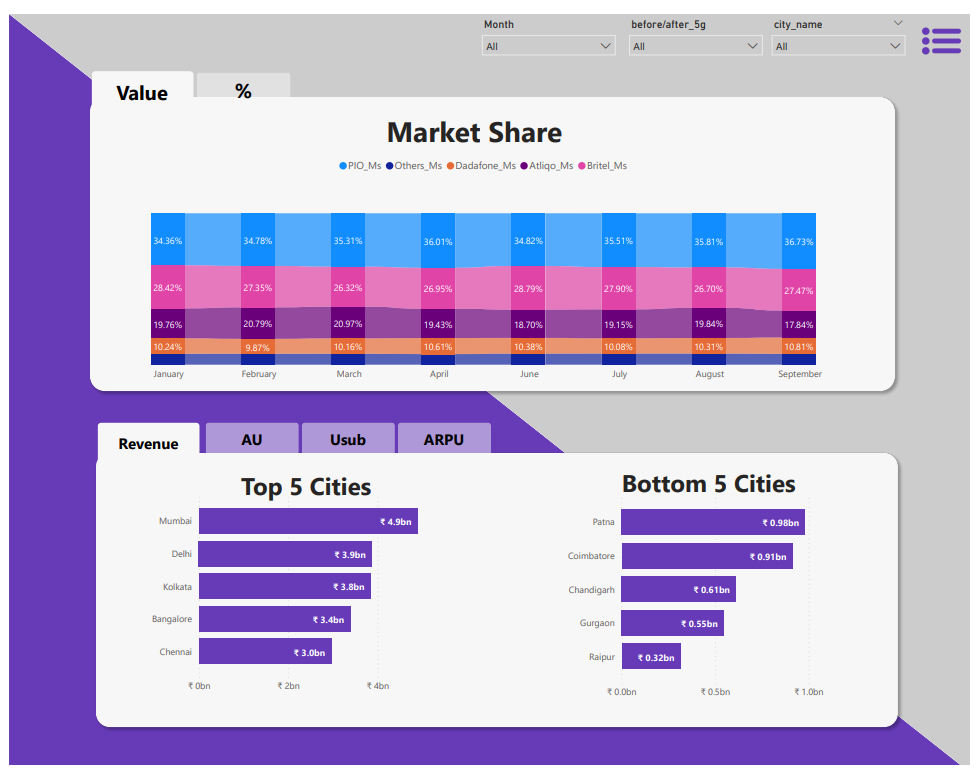

This screenshot's page, from the dashboard's own definition file:
{"tool":"powerbi","page":{"name":"Market","canvas":[1280,1000],"ordinal":1},"visuals":[{"type":"group","id":"g1","title":"BG","box":[0,0,1280,1010],"z":0},{"type":"shape","box":[0,0,1280,1010],"z":0,"group":"g1"},{"type":"shape","box":[100,102.1,1087.5,407.5],"z":0,"group":"g2"},{"type":"shape","box":[108,576,1084,382],"z":0,"group":"g3"},{"type":"shape","box":[0,0,1280,1010],"z":1000,"group":"g1"},{"type":"group","id":"g2","title":"MArket_share_value","box":[100,76.5,1087.5,433.1],"z":1000},{"type":"actionButton","box":[110,76.5,135.7,55.7],"z":1000,"group":"g2"},{"type":"actionButton","box":[518,544,124,44],"z":1000,"group":"g3"},{"type":"actionButton","box":[250,79,125,45],"z":2000,"group":"g2"},{"type":"actionButton","box":[262,544,124,44],"z":2000,"group":"g3"},{"type":"ribbonChart","fields":{"Category":["dim_date.date.Variation.Date Hierarchy.Month"],"Y":["Measrue_table.PIO_Ms","Measrue_table.Others_Ms","Measrue_table.Dadafone_Ms","Measrue_table.Atliqo_Ms","Measrue_table.Britel_Ms"]},"box":[136.7,181.9,995,315],"z":3000,"group":"g2"},{"type":"group","id":"g3","title":"Revenue","box":[108,544,1084,414],"z":3000},{"type":"actionButton","box":[118,544,136,54],"z":3000,"group":"g3"},{"type":"actionButton","box":[390,544,124,44],"z":4000,"group":"g3"},{"type":"clusteredBarChart","title":"Top_Market_bar","fields":{"Category":["dim_cities.city_name"],"Y":["Measrue_table.Total_Revenue"]},"box":[179.5,628.6,435,285],"z":5000,"group":"g3"},{"type":"clusteredBarChart","title":"Bottom_markte_bar","fields":{"Category":["dim_cities.city_name"],"Y":["Measrue_table.Total_Revenue"]},"box":[734.5,628.6,400,292.5],"z":6000,"group":"g3"},{"type":"slicer","fields":{"Values":["dim_date.before/after_5g"]},"box":[815,0,197.5,77.5],"z":7000},{"type":"slicer","fields":{"Values":["dim_date.date.Variation.Date Hierarchy.Month"]},"box":[620,0,197.5,77.5],"z":8000},{"type":"slicer","fields":{"Values":["dim_cities.city_name"]},"box":[1005,0,197.5,77.5],"z":9000},{"type":"textbox","box":[470,125,300,77.5],"z":10000},{"type":"textbox","box":[245,600,300,77.5],"z":11000},{"type":"textbox","box":[782.5,595,300,77.5],"z":12000},{"type":"image","box":[1212.5,5,60,60],"z":13000}]}

Visuals, with their boxes in screenshot pixels (x1, y1, x2, y2), scaled from the page's 1280x1000 canvas onto the 978x775 screenshot:
"BG" group: <box>0,0,977,774</box>
shape: <box>0,0,977,774</box>
shape: <box>76,79,907,395</box>
shape: <box>83,446,911,742</box>
shape: <box>0,0,977,774</box>
"MArket_share_value" group: <box>76,59,907,395</box>
actionButton: <box>84,59,188,102</box>
actionButton: <box>396,422,491,456</box>
actionButton: <box>191,61,287,96</box>
actionButton: <box>200,422,295,456</box>
ribbonChart - dim_date.date.Variation.Date Hierarchy.Month x Measrue_table.PIO_Ms: <box>104,141,865,385</box>
"Revenue" group: <box>83,422,911,742</box>
actionButton: <box>90,422,194,463</box>
actionButton: <box>298,422,393,456</box>
"Top_Market_bar" clusteredBarChart: <box>137,487,470,708</box>
"Bottom_markte_bar" clusteredBarChart: <box>561,487,867,714</box>
slicer - dim_date.before/after_5g: <box>623,0,774,60</box>
slicer - dim_date.date.Variation.Date Hierarchy.Month: <box>474,0,625,60</box>
slicer - dim_cities.city_name: <box>768,0,919,60</box>
textbox: <box>359,97,588,157</box>
textbox: <box>187,465,416,525</box>
textbox: <box>598,461,827,521</box>
image: <box>926,4,972,50</box>
